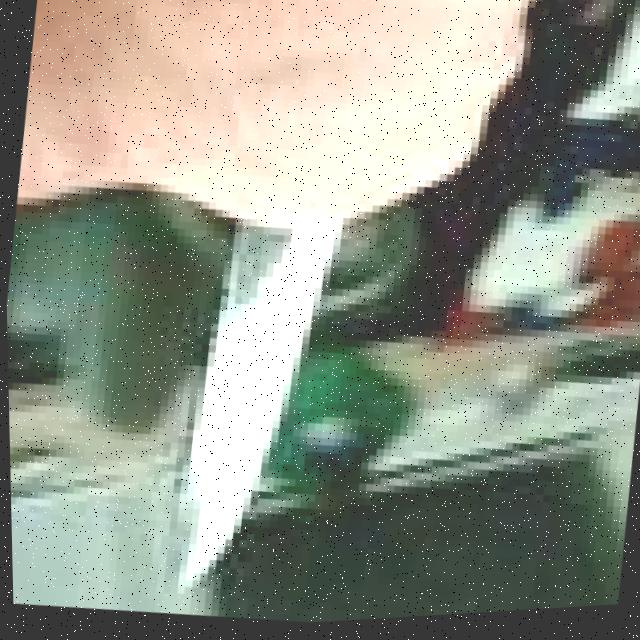knife: (127, 168, 370, 624)
